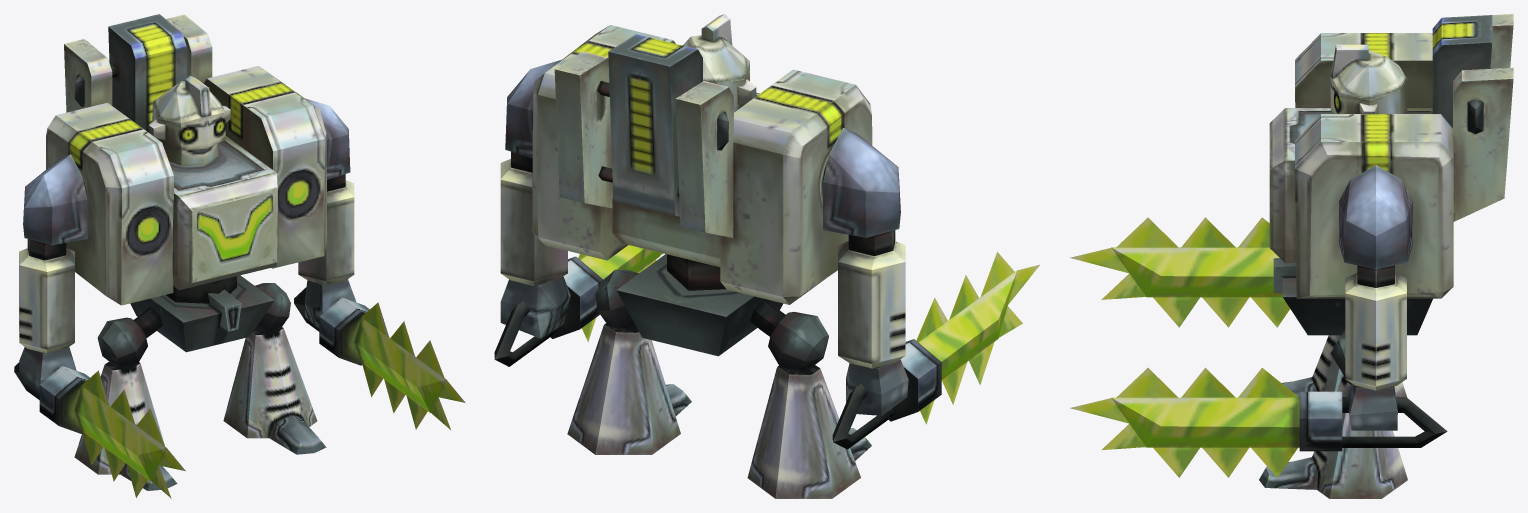
Rendered from robot.FBX.
3 renders of one model, left to right at view 1: azimuth 30°, elevation 25°; view 2: azimuth 150°, elevation 25°; view 3: azimuth 270°, elevation 25°, orthographic. The views are drawn at different scales.
Visible parts, largest first — view 1: v_body; view 2: v_body; view 3: v_body.
Boxes of the visible parts, x1,y1,x2,y2 form: v_body: [14, 14, 465, 498]; v_body: [494, 14, 1039, 498]; v_body: [1070, 14, 1513, 498].
Size of the model in its own units: 2.54 by 2.7 by 2.65.
1 material, 1 textured.
